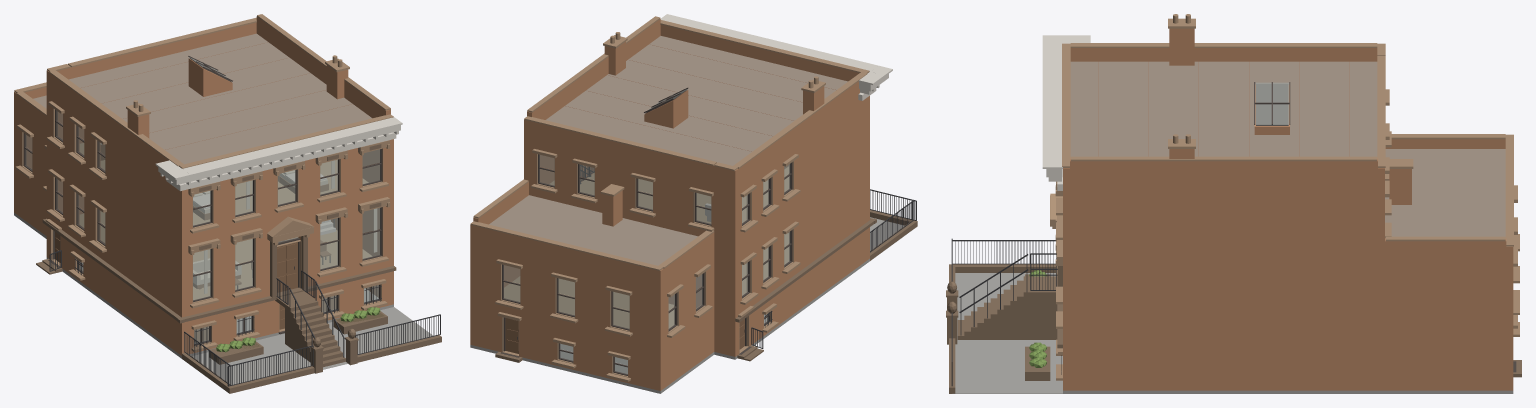
The model's file is pilot-brownstone-end-rowhouse-clay-v007.glb.
3 views of the same model, side by side, from view 1: azimuth 30°, elevation 25°; view 2: azimuth 150°, elevation 25°; view 3: azimuth 270°, elevation 25° (orthographic). The views are drawn at different scales.
Visible parts, largest first — view 1: CLAY_WALL, CLAY_ROOF, CLAY_SAND, CLAY_STONE, CLAY_GLASS, CLAY_PALE, CLAY_FOUNDATION, CLAY_HARDWARE, CLAY_TRIM, CLAY_FLOOR, CLAY_TIMBER, CLAY_INTERIOR (+2 smaller); view 2: CLAY_WALL, CLAY_ROOF, CLAY_SAND, CLAY_GLASS, CLAY_FLOOR, CLAY_TRIM, CLAY_PALE, CLAY_FOUNDATION, CLAY_STONE, CLAY_HARDWARE, CLAY_JOINT, CLAY_TIMBER; view 3: CLAY_WALL, CLAY_ROOF, CLAY_SAND, CLAY_FOUNDATION, CLAY_STONE, CLAY_PALE, CLAY_HARDWARE, CLAY_TRIM, CLAY_GLASS, CLAY_JOINT, CLAY_PLANTING.
Part boxes in pixels (box(x1,y1,x2,y2)): CLAY_WALL: box(14, 16, 393, 355); CLAY_ROOF: box(33, 33, 371, 164); CLAY_SAND: box(14, 14, 393, 351); CLAY_STONE: box(36, 144, 441, 393); CLAY_GLASS: box(26, 57, 380, 343); CLAY_PALE: box(100, 117, 402, 234); CLAY_FOUNDATION: box(14, 213, 433, 391); CLAY_HARDWARE: box(49, 219, 440, 386); CLAY_TRIM: box(23, 56, 381, 345); CLAY_FLOOR: box(79, 143, 372, 299); CLAY_TIMBER: box(55, 144, 336, 342); CLAY_INTERIOR: box(193, 160, 377, 293); CLAY_WALL: box(470, 19, 869, 390); CLAY_ROOF: box(489, 36, 847, 265); CLAY_SAND: box(470, 16, 869, 381); CLAY_GLASS: box(504, 89, 789, 374); CLAY_FLOOR: box(504, 166, 788, 328); CLAY_TRIM: box(500, 87, 792, 375); CLAY_PALE: box(660, 14, 892, 221); CLAY_FOUNDATION: box(470, 217, 914, 393); CLAY_STONE: box(495, 210, 917, 362); CLAY_HARDWARE: box(517, 165, 916, 348); CLAY_JOINT: box(565, 44, 835, 151); CLAY_TIMBER: box(505, 165, 788, 353); CLAY_WALL: box(1063, 28, 1513, 390); CLAY_ROOF: box(1070, 61, 1505, 236); CLAY_SAND: box(1050, 14, 1519, 380); CLAY_FOUNDATION: box(952, 273, 1513, 393); CLAY_STONE: box(946, 181, 1521, 393); CLAY_PALE: box(1042, 35, 1090, 190); CLAY_HARDWARE: box(951, 238, 1061, 386); CLAY_TRIM: box(1254, 82, 1516, 372); CLAY_GLASS: box(1255, 82, 1288, 125); CLAY_JOINT: box(1098, 62, 1349, 156); CLAY_PLANTING: box(1029, 270, 1046, 367).
Bounding box in the file's own units: 12.42 × 11.37 × 22.88.
